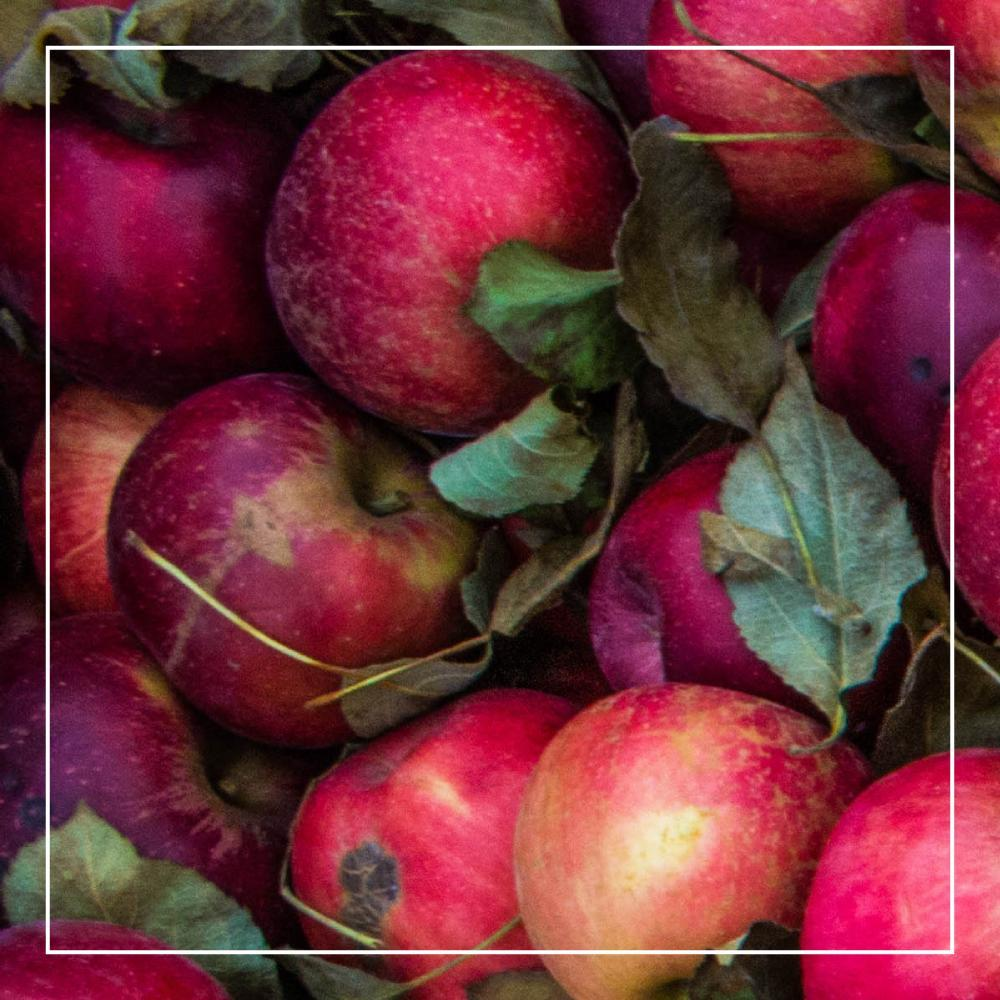apple: (105, 368, 488, 746), (266, 58, 635, 438), (513, 679, 874, 997), (7, 606, 297, 959), (288, 699, 609, 984), (8, 72, 280, 388), (583, 432, 872, 714), (646, 3, 923, 212), (797, 751, 1000, 994)
